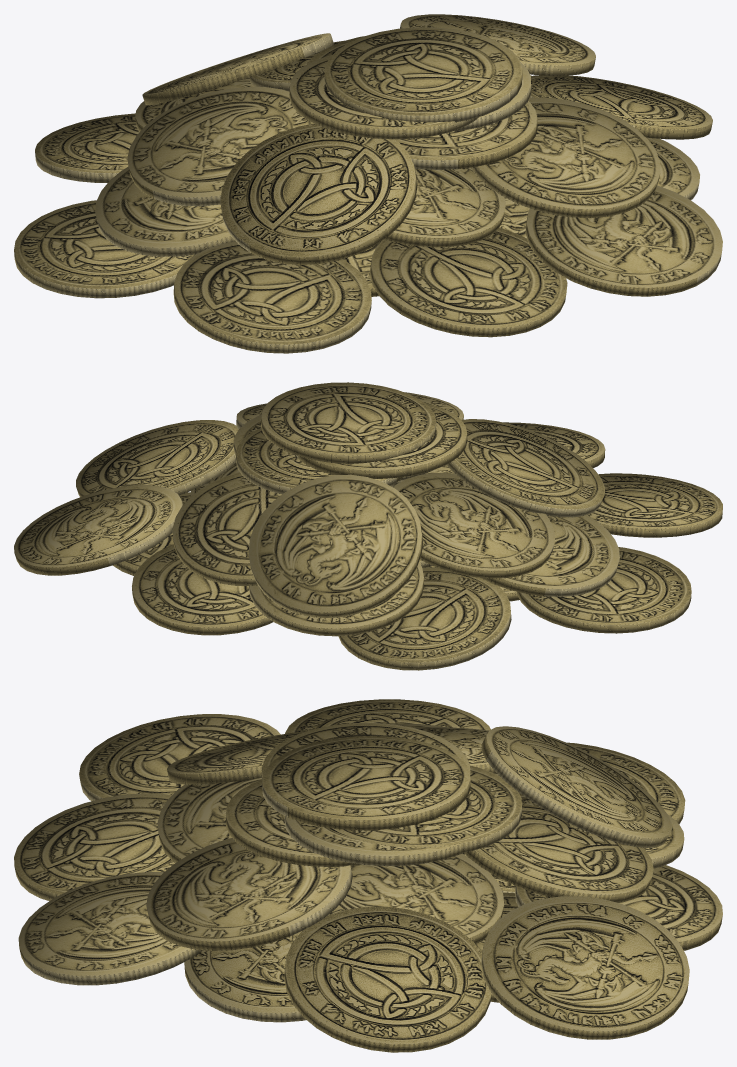
The model's file is TonsGoldCoins.fbx.
3 views of the same model, one above another, from view 1: azimuth 30°, elevation 25°; view 2: azimuth 150°, elevation 25°; view 3: azimuth 270°, elevation 25° (orthographic). The views are drawn at different scales.
Parts seen in each view (by area): view 1: TonsGoldCoins; view 2: TonsGoldCoins; view 3: TonsGoldCoins.
Boxes of the visible parts, <box> form: TonsGoldCoins: <box>14,14,722,353</box>; TonsGoldCoins: <box>14,382,722,670</box>; TonsGoldCoins: <box>14,699,722,1052</box>.
Bounding box in the file's own units: 46.86 × 8.47 × 40.73.
